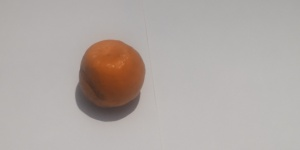BAD: (77, 37, 150, 113)
